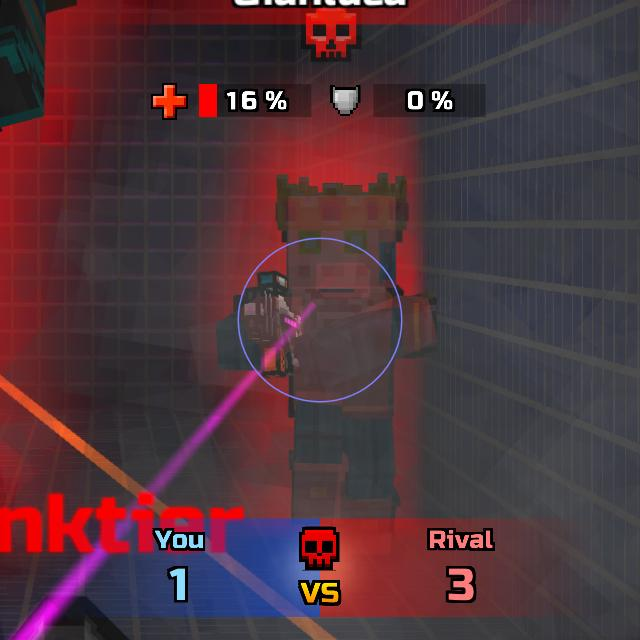Enemy: (220, 187, 406, 519)
